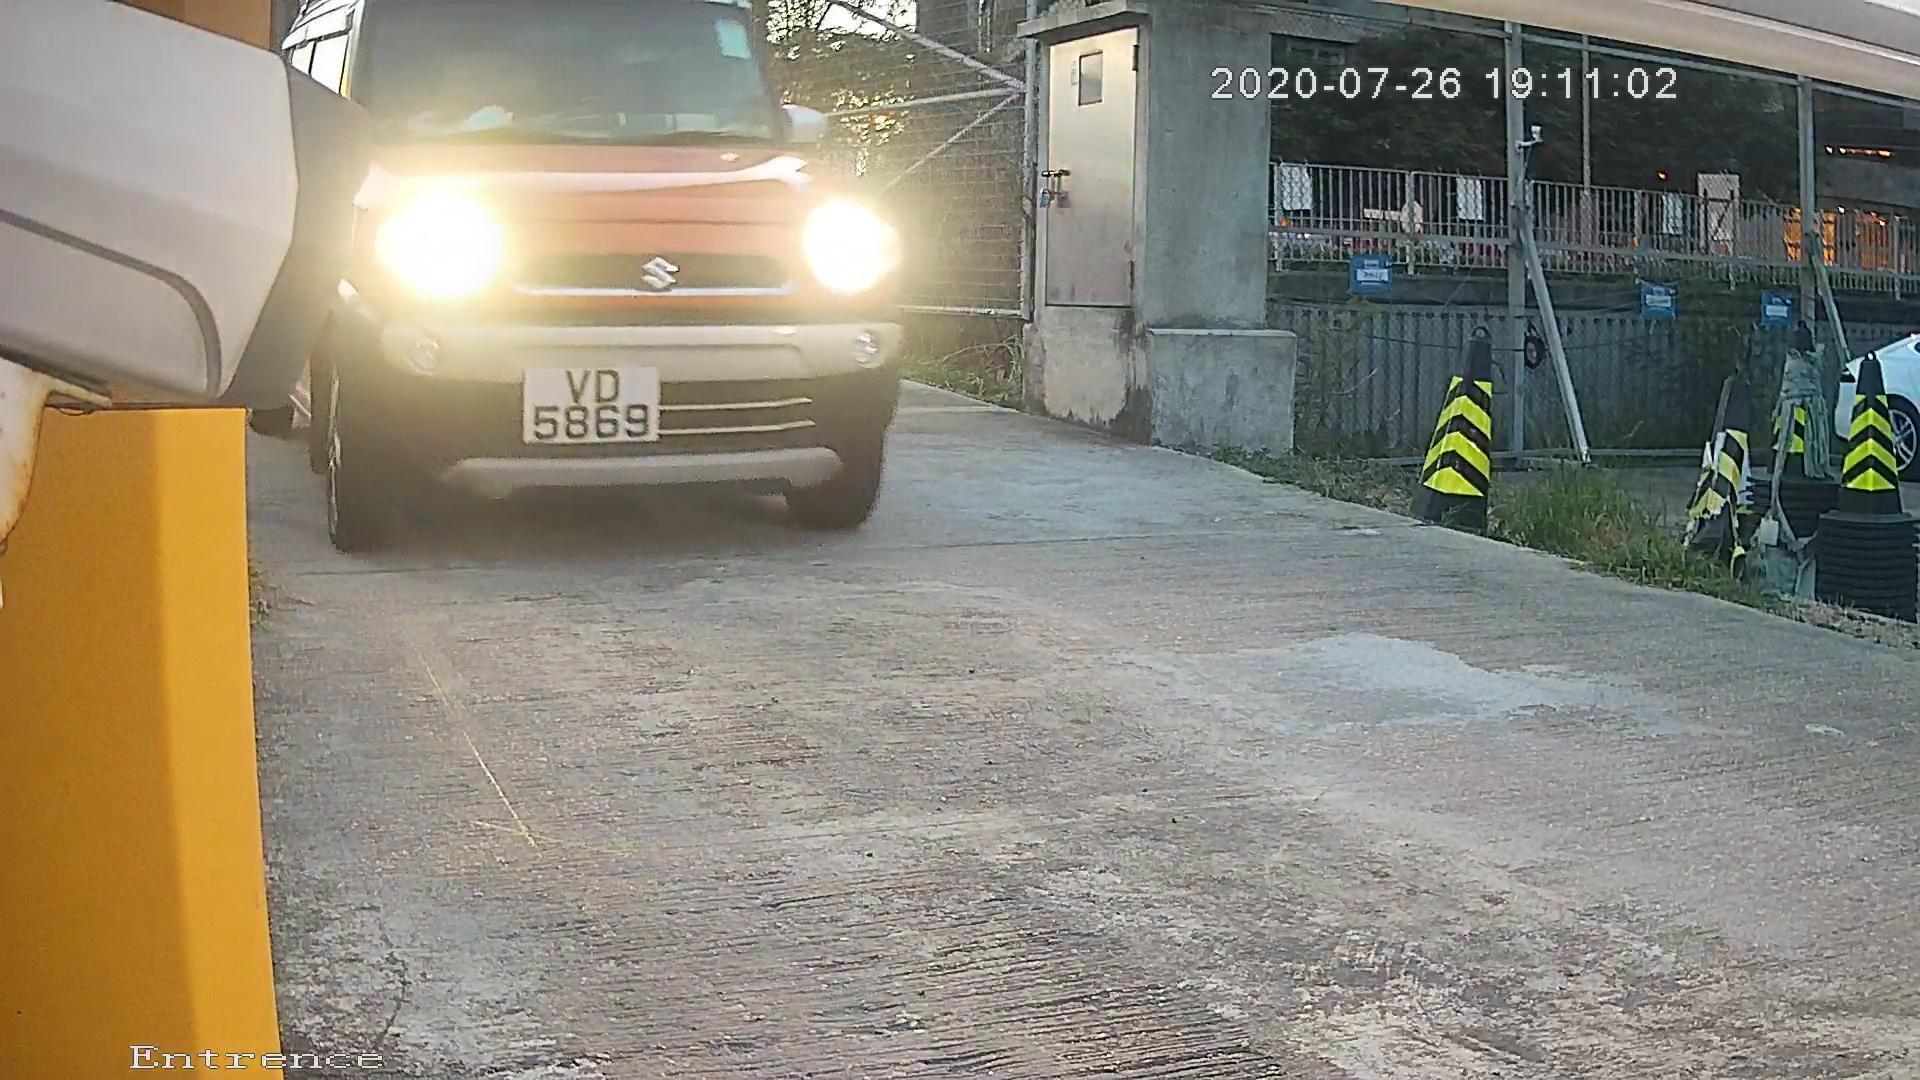License Plate: (499, 333, 703, 474)
